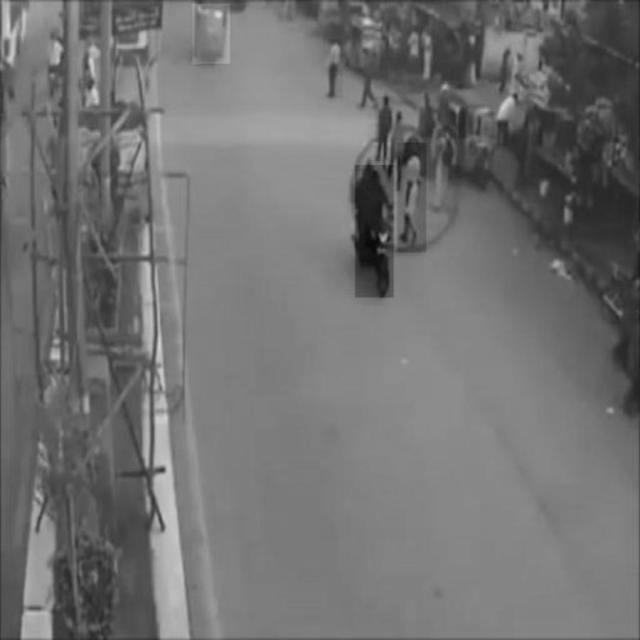person: (397, 143, 425, 253), (376, 96, 393, 160), (329, 39, 343, 99)
vehicle: (355, 164, 393, 298), (193, 4, 230, 64)
